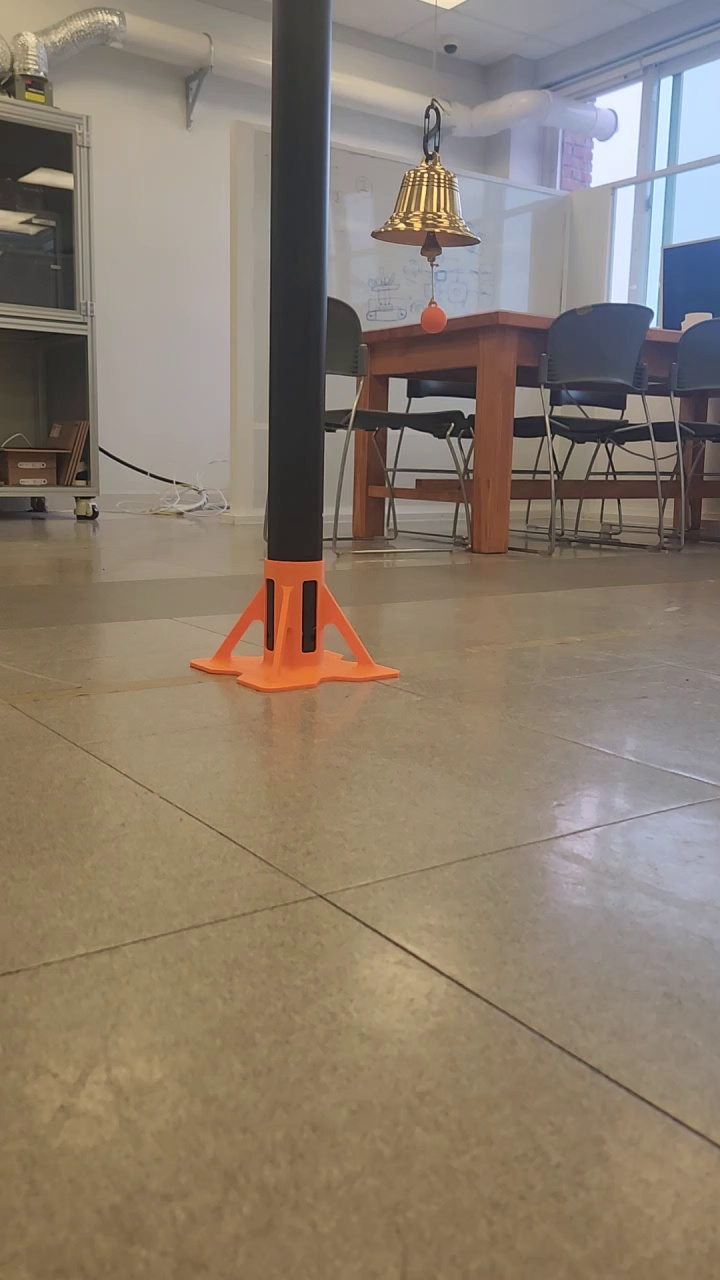bell: (370, 159, 482, 252)
pole: (264, 3, 330, 562)
